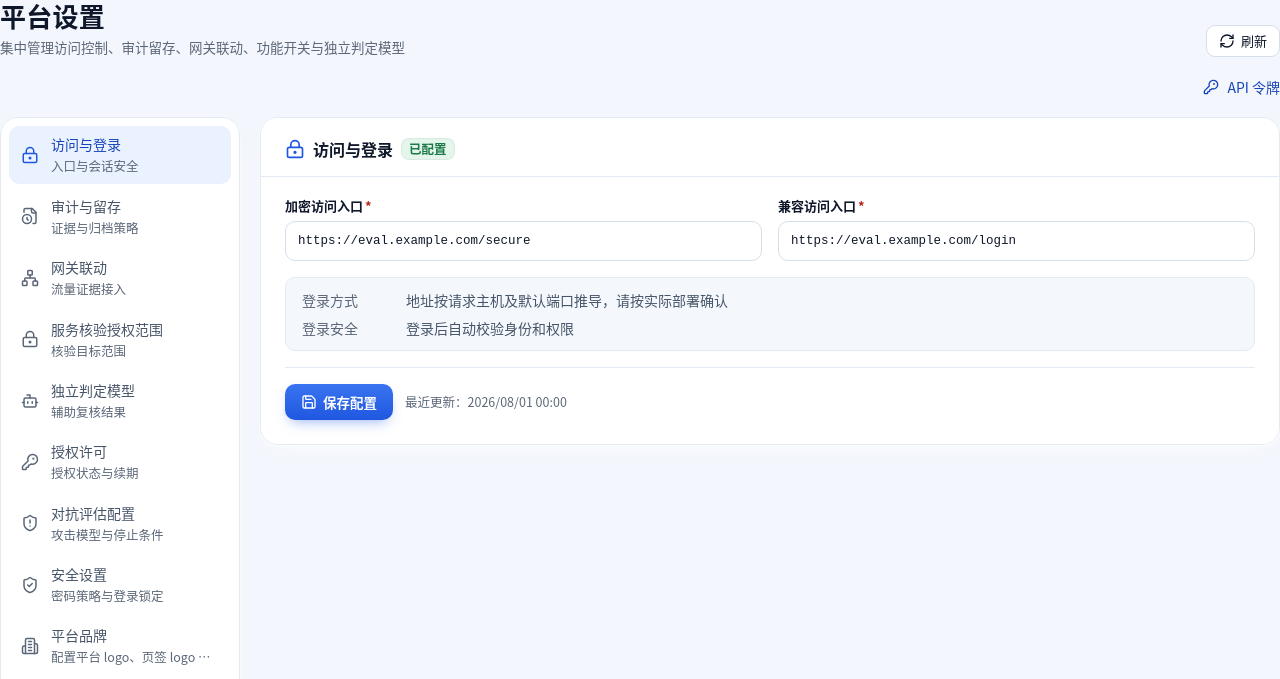
SettingsPage 分区表单互不干扰 › 四个保存按钮各有可区分的无障碍名称
The image size is (1280, 679).
Expected: the field labelled "加密访问入口" is shown, [285,221,762,261]
Expected: the button with aria-label "保存访问与登录配置" is shown, [285,384,393,420]
Click the tab "审计与留存 证据与归档策略". click: (120, 216)
box: [9,188,231,245]
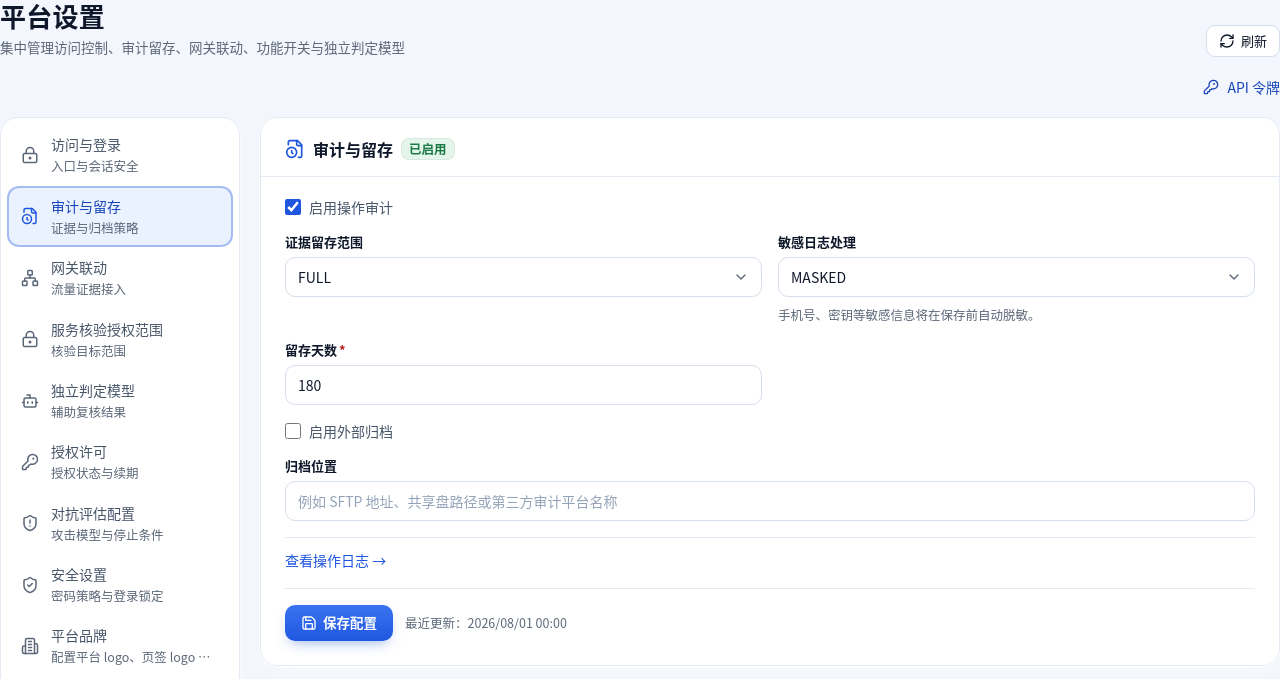
Result: the button with aria-label "保存审计与留存配置" is shown at [285,605,393,641]
Click the tab "网关联动 流量证据接入". click: (120, 278)
box: [9,249,231,307]
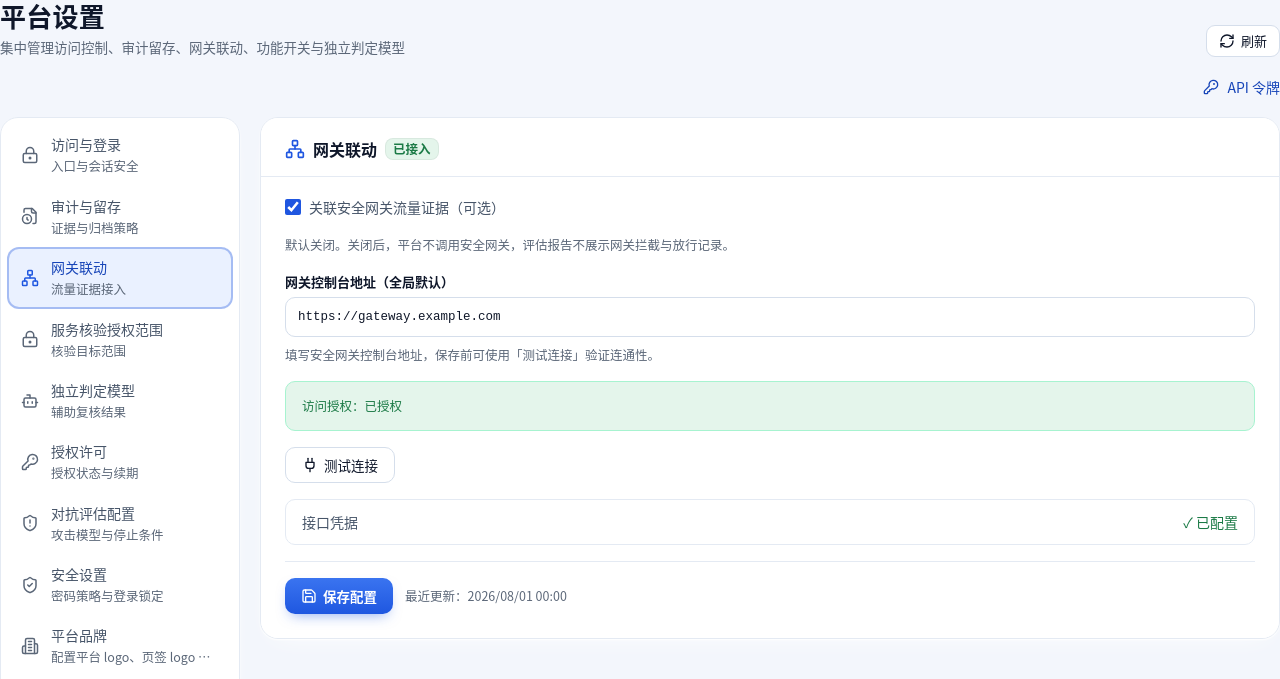
Result: the button with aria-label "保存网关联动配置" is shown at [285,578,393,614]
Click the tab "独立判定模型 辅助复核结果". click: (120, 401)
box: [9,372,231,429]
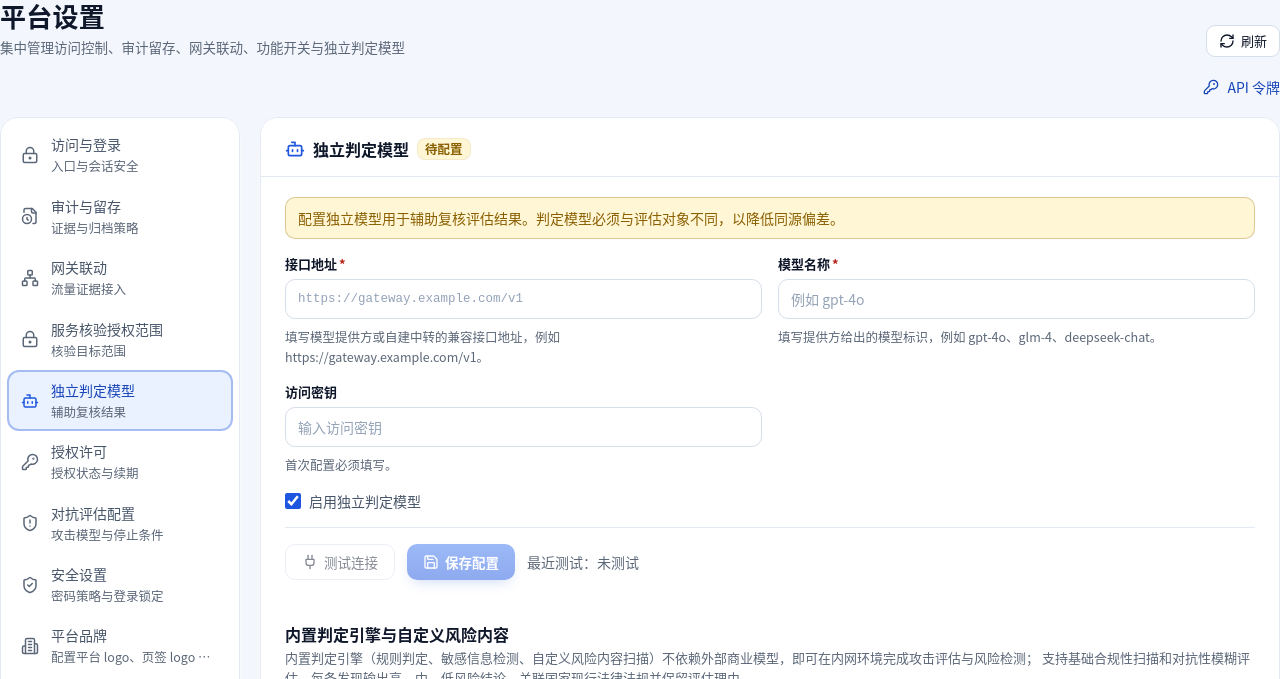
Result: the button with aria-label "保存判定模型配置" is shown at [407,544,515,580]
